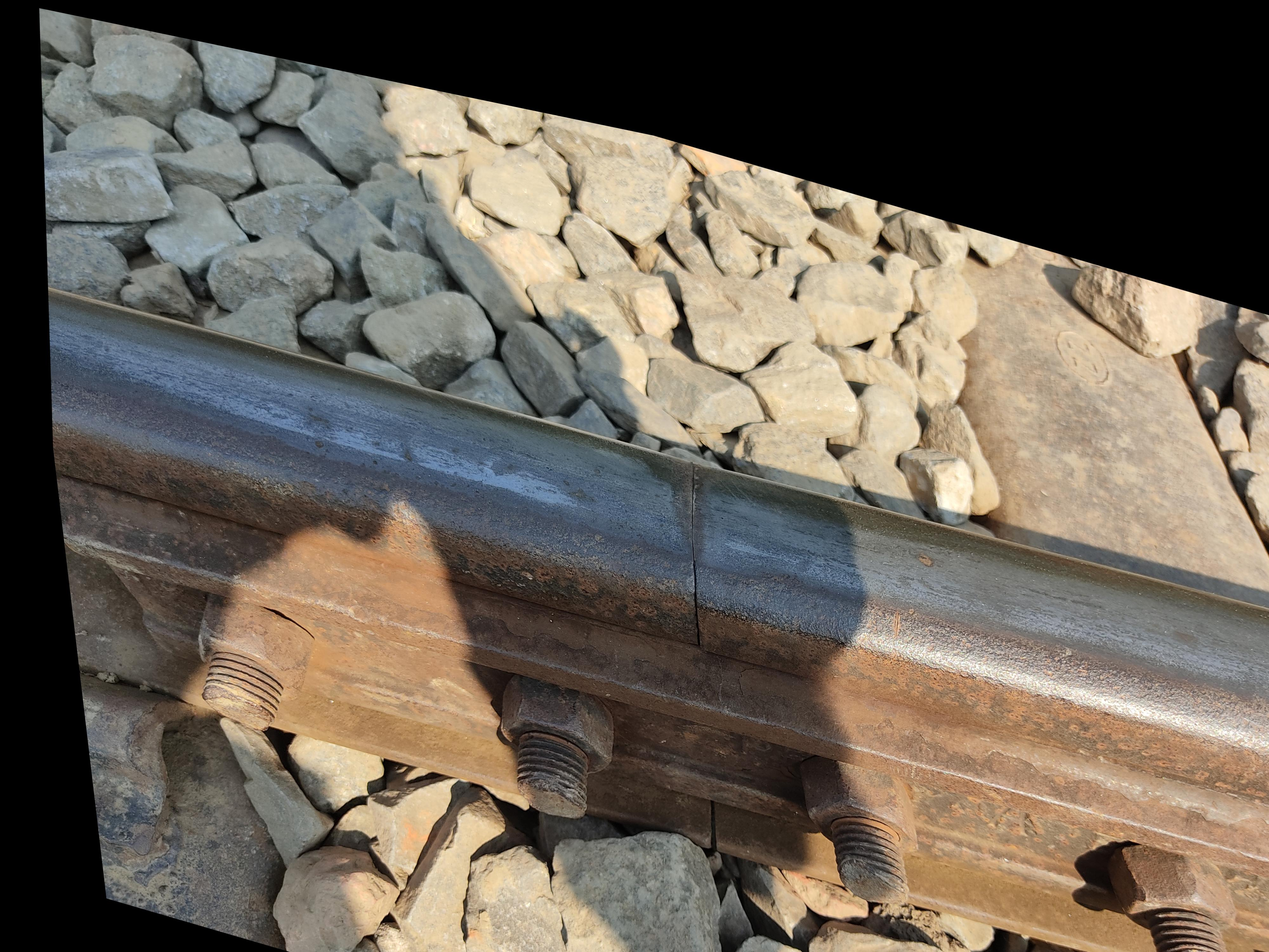person: (566, 302, 880, 649), (672, 694, 798, 829)
